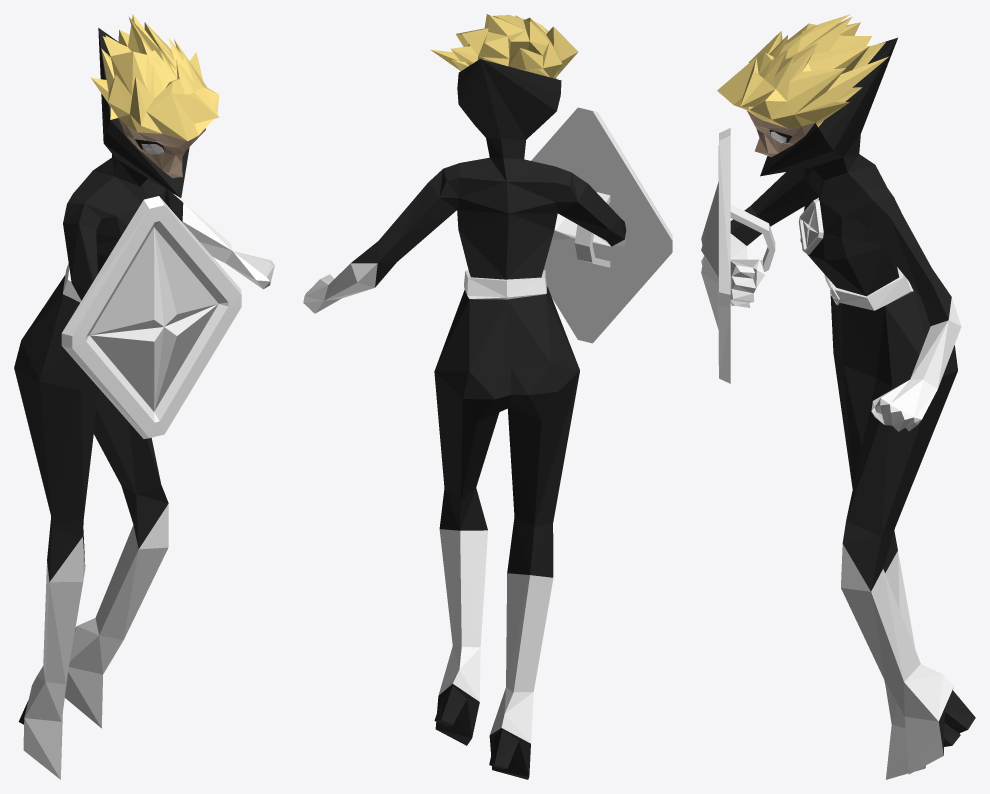
Rendered from Idle.fbx.
The picture shows the model from 3 angles, left to right: view 1: azimuth 30°, elevation 25°; view 2: azimuth 150°, elevation 25°; view 3: azimuth 270°, elevation 25°; orthographic projection. The views are drawn at different scales.
Visible parts, largest first — view 1: pPyramid4; view 2: pPyramid4; view 3: pPyramid4.
Boxes of the visible parts, box(x1,y1,x2,y2) form: pPyramid4: box(14, 14, 274, 779); pPyramid4: box(303, 14, 672, 779); pPyramid4: box(701, 14, 975, 779).
Bounding box in the file's own units: 73.02 × 181 × 57.
